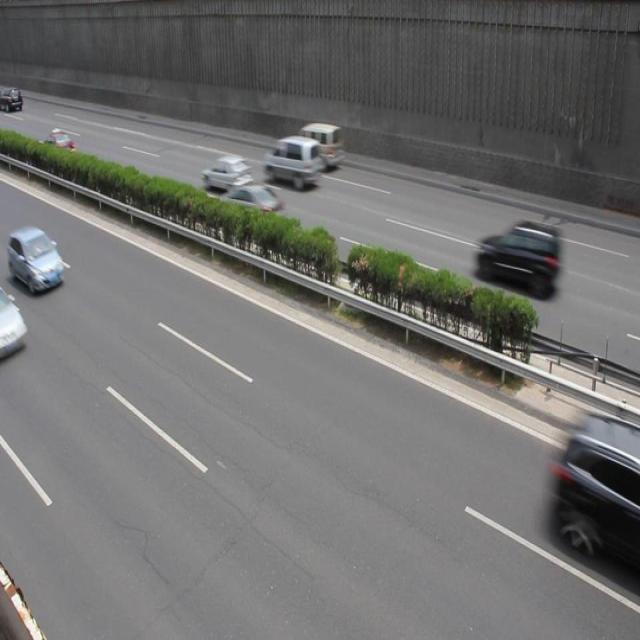car: (549, 421, 640, 577), (476, 218, 560, 298), (216, 182, 285, 238), (11, 227, 65, 294), (202, 156, 252, 195), (43, 129, 75, 157)
truck: (265, 137, 322, 189), (291, 122, 343, 170)
